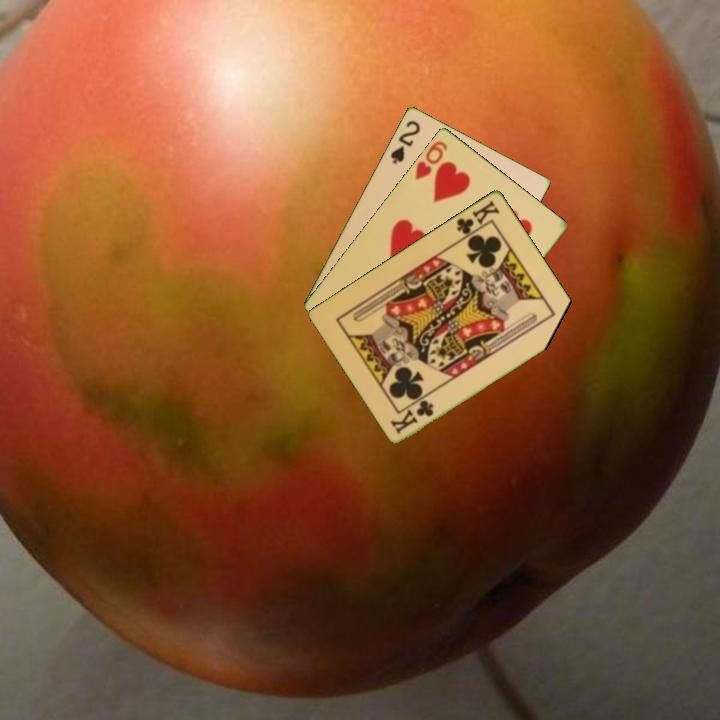2s: (387, 116, 423, 166)
6h: (411, 137, 450, 182)
Kc: (453, 196, 502, 242), (387, 396, 437, 437)
